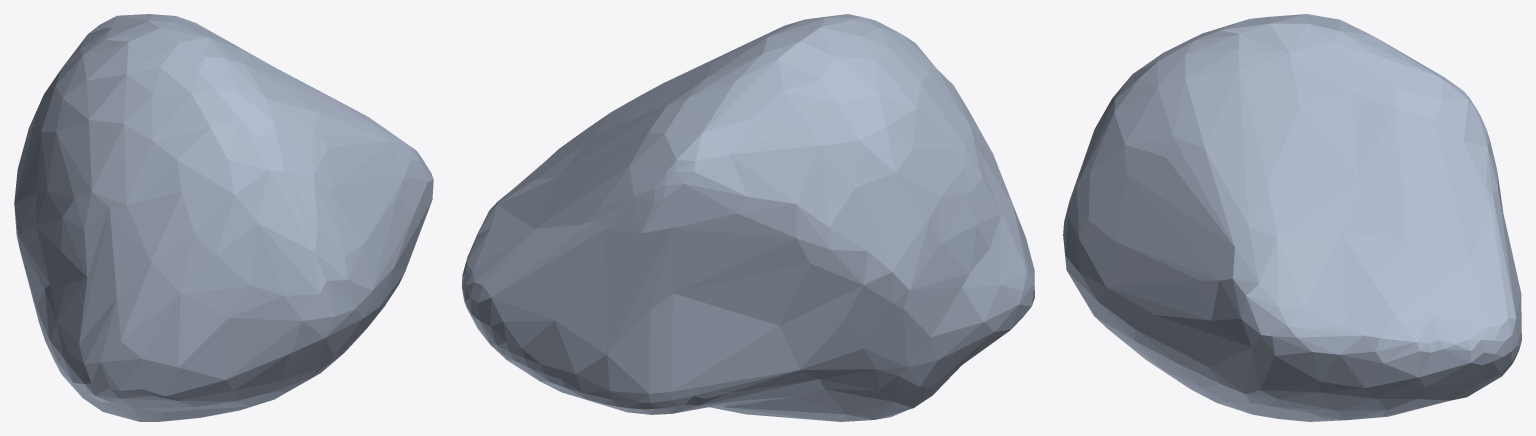
The model's file is kamen3.FBX.
3 views of the same model, side by side, from view 1: azimuth 30°, elevation 25°; view 2: azimuth 150°, elevation 25°; view 3: azimuth 270°, elevation 25° (orthographic). The views are drawn at different scales.
Parts seen in each view (by area): view 1: Rock.Landscape.Style_3; view 2: Rock.Landscape.Style_3; view 3: Rock.Landscape.Style_3.
Part boxes in pixels (bbox=[...]): Rock.Landscape.Style_3: bbox=[14, 14, 433, 421]; Rock.Landscape.Style_3: bbox=[462, 14, 1034, 421]; Rock.Landscape.Style_3: bbox=[1063, 14, 1521, 421].
Size of the model in its own units: 2.53 by 2.11 by 2.47.
